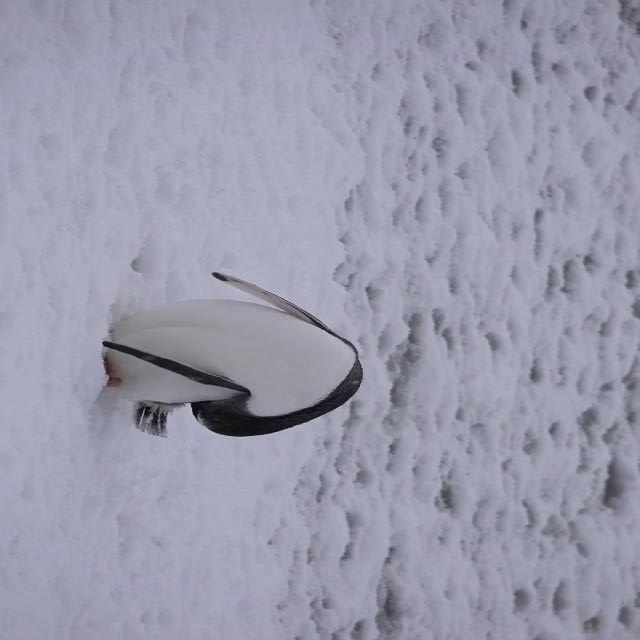penguin: (95, 272, 362, 438)
